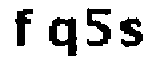5: (83, 5, 114, 49)
f: (8, 5, 36, 51)
q: (47, 12, 81, 60)
s: (118, 15, 149, 52)
